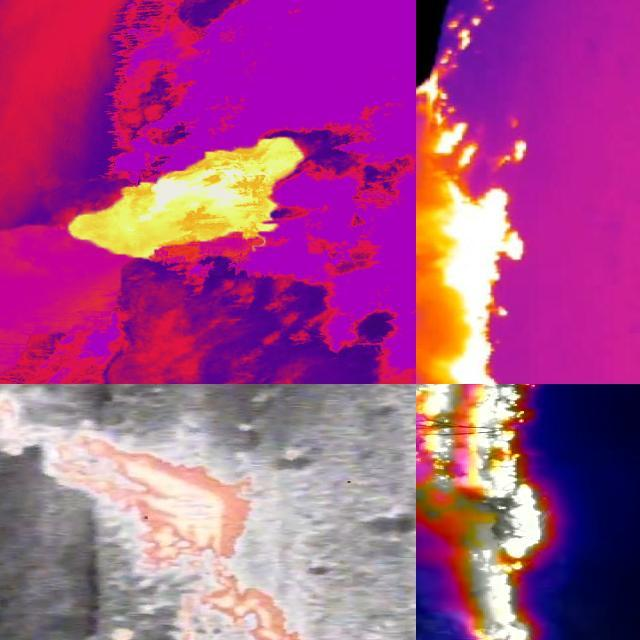fire: (417, 385, 556, 640), (66, 132, 308, 272), (44, 432, 256, 571), (417, 184, 526, 385), (98, 568, 324, 640), (1, 395, 31, 457)
